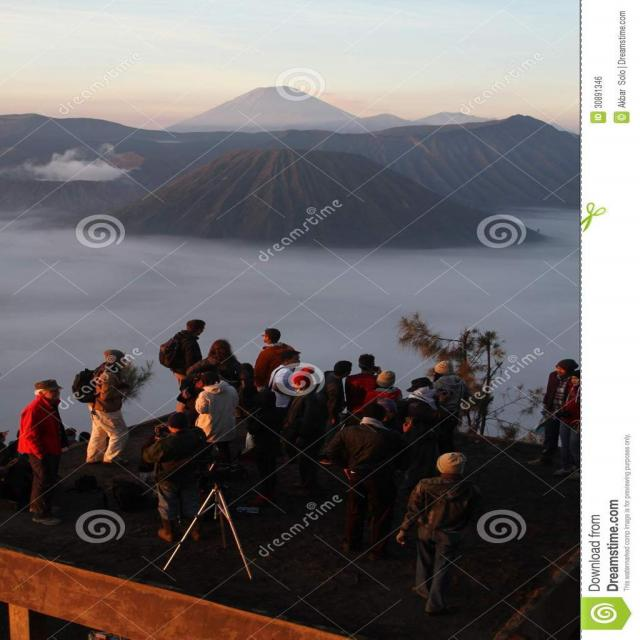nomask: (44, 388, 60, 400), (290, 354, 300, 366), (556, 365, 565, 375), (571, 376, 579, 386), (118, 356, 126, 366), (168, 422, 176, 431), (197, 325, 204, 335), (262, 332, 268, 342), (344, 368, 350, 376)
